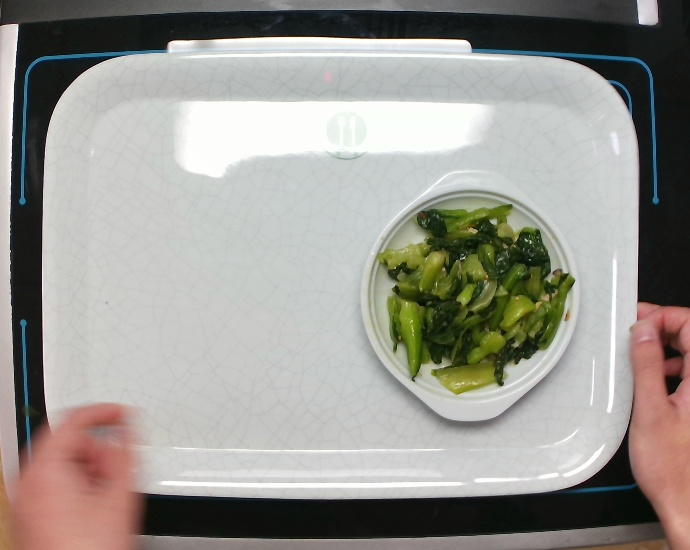JYsf-Shuang_Er_Pan: (358, 166, 584, 423)
